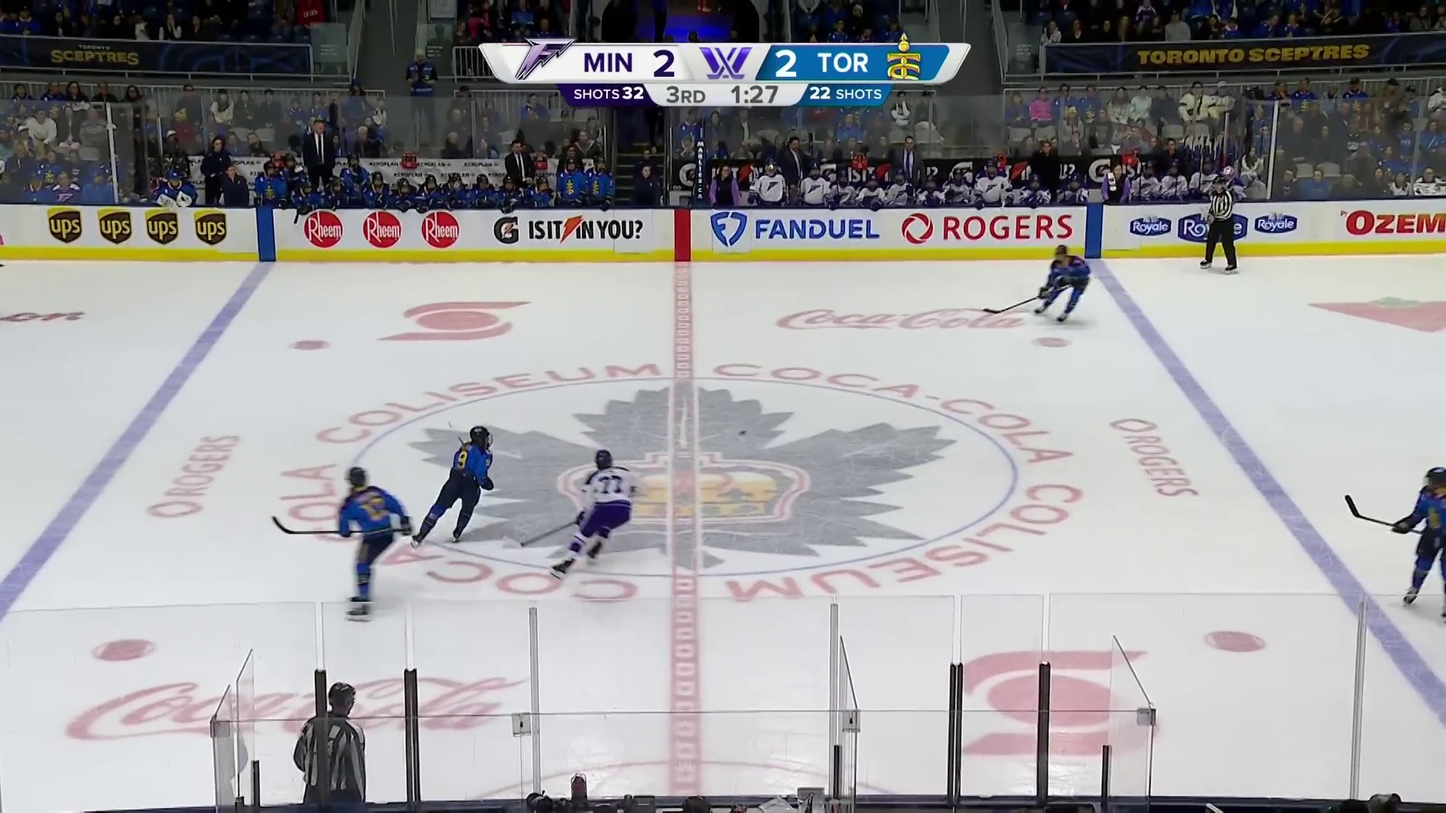player: (337, 463, 413, 626), (549, 446, 640, 579), (416, 423, 496, 543), (1034, 243, 1092, 322)
puck: (735, 427, 749, 437)
referee: (1199, 173, 1240, 276)
